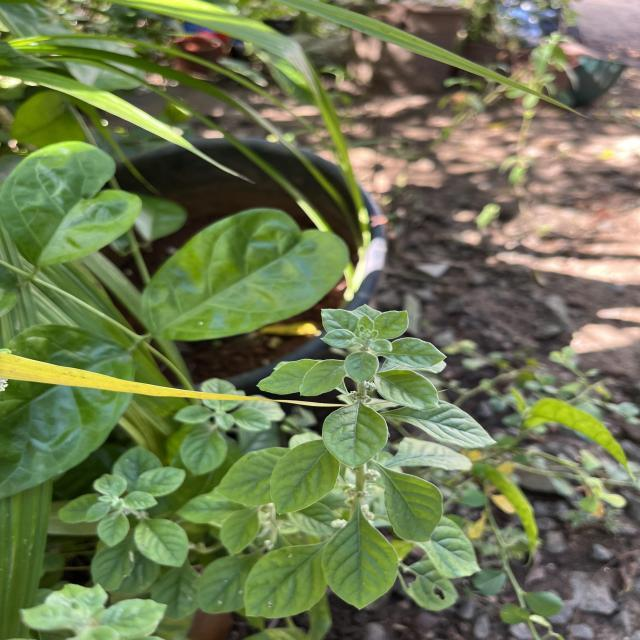Aerva lanata: (319, 509, 402, 612), (384, 396, 498, 451), (268, 438, 344, 520), (320, 402, 392, 472), (380, 468, 444, 544), (376, 367, 443, 412), (254, 358, 320, 397), (382, 336, 451, 368), (296, 358, 349, 398)
